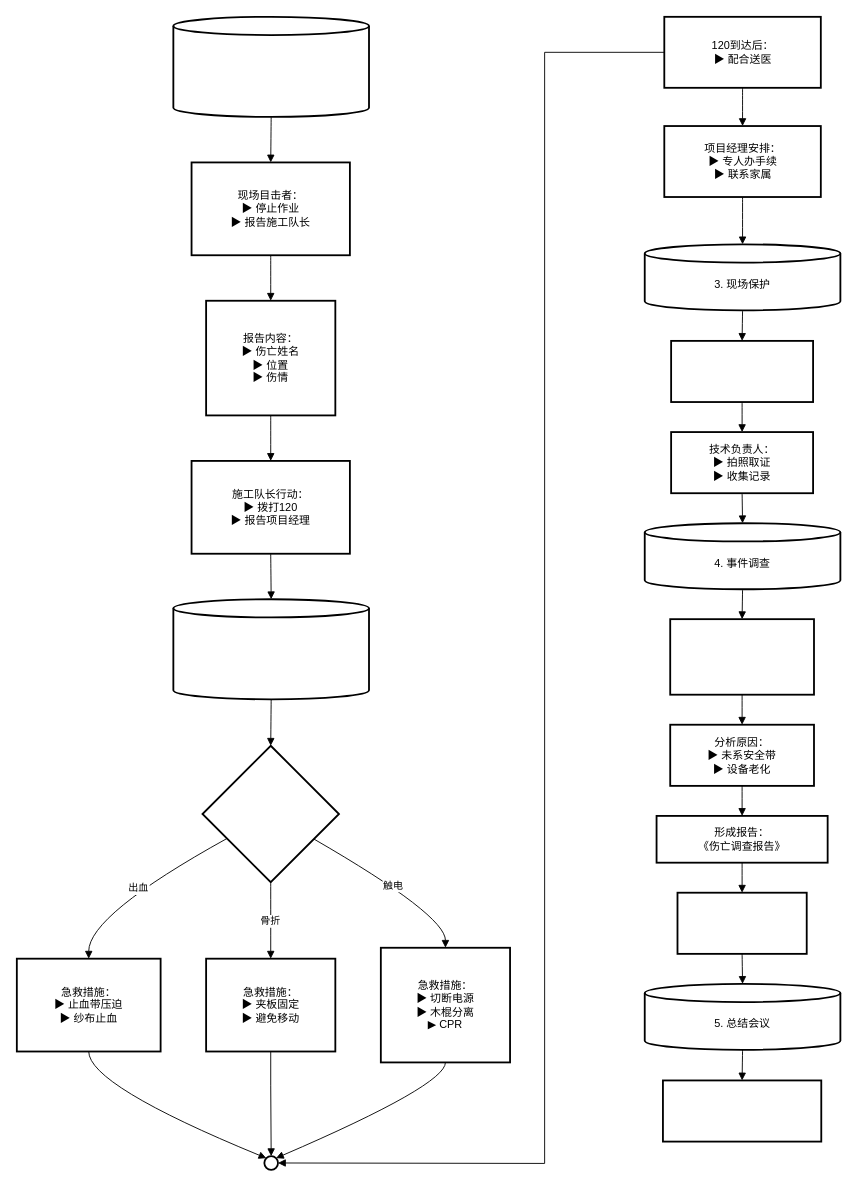
Image size: 856x1187. Some labels were removed from this diagram. Each missing label, with the centre of its shape:
1. 伤亡报告: the point at 270,66
2. 现场急救: the point at 270,649
伤情类型判定: the point at 270,813
制定措施： ▶ 加强安全交底 ▶ 更换设备: the point at 742,1110
安全员行动： ▶ 设警戒区 ▶ 保护现场: the point at 742,371
报送： ▶ 建设单位 ▶ 公司总部: the point at 741,922
调查组构成： ▶ 技术负责人 ▶ 安全员 ▶ 施工队长: the point at 741,656
